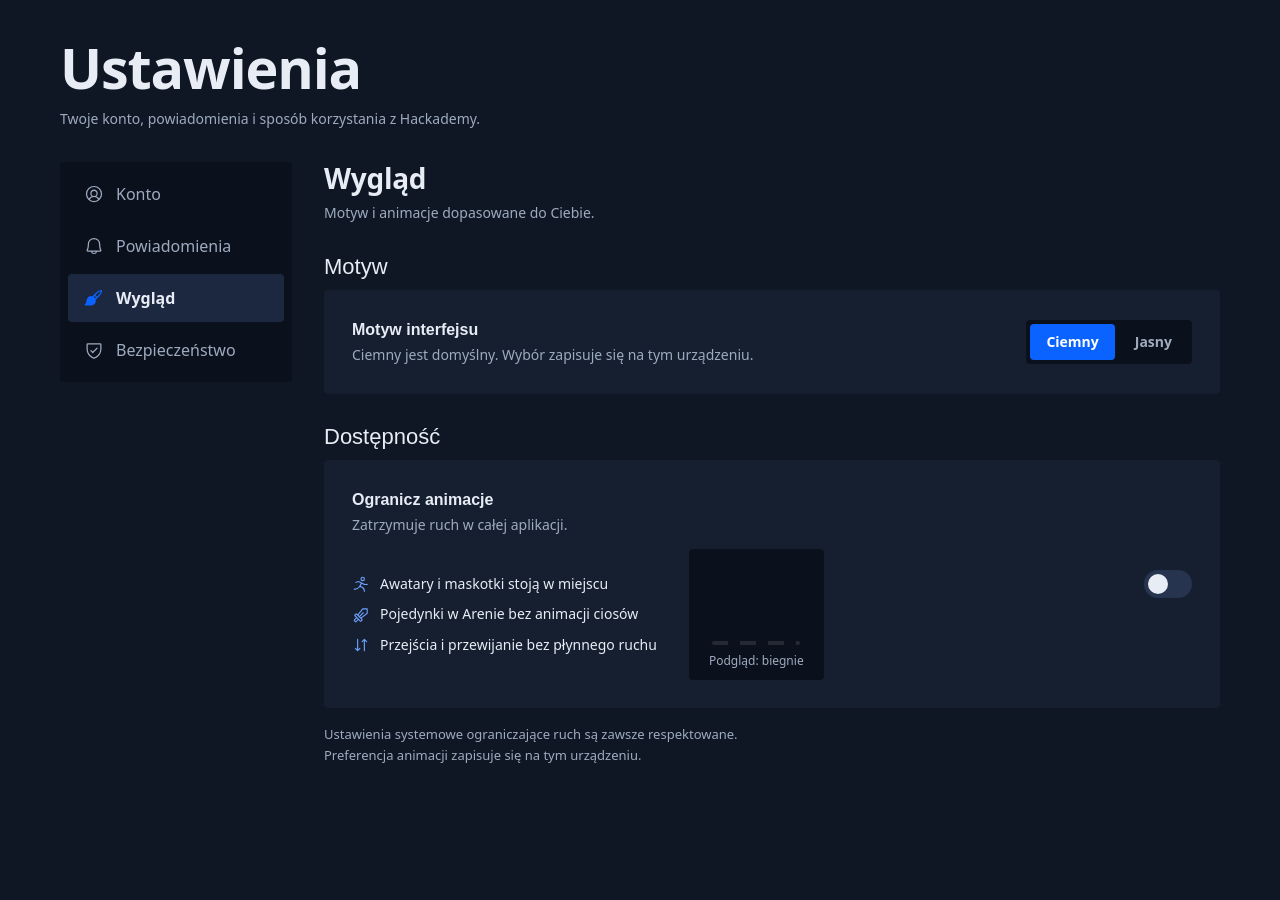
settings › switches the theme and reduced motion from the appearance section
Expected: the radio button labelled "Ciemny" is checked, [1030, 324, 1115, 360]
Click the radio button labelled "Jasny" at coordinates (1153, 342), box [1135, 332, 1172, 351]
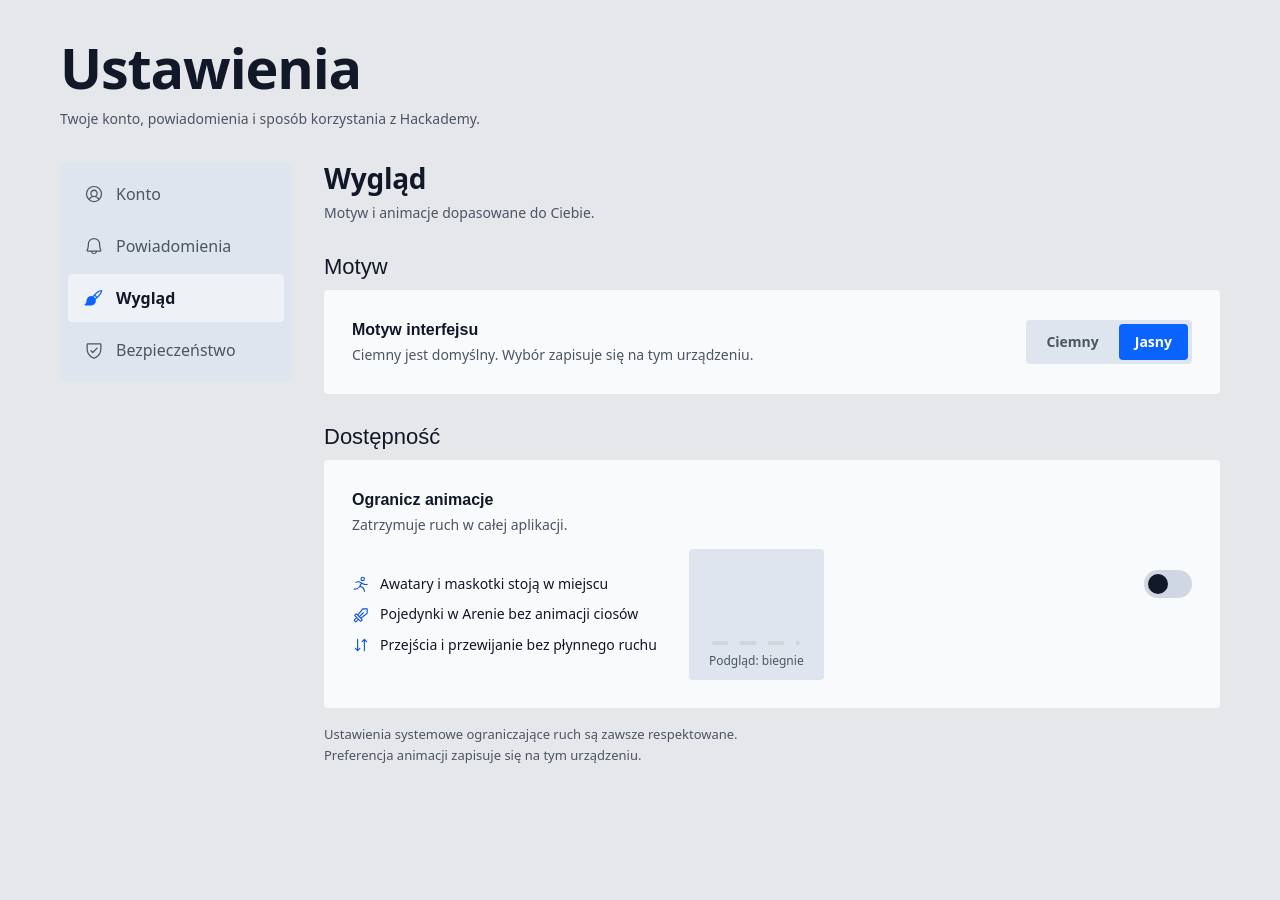
Expected: the element named "Motyw interfejsu" is shown, [1026, 320, 1192, 364]
Now the radio button labelled "Jasny" is checked, box [1119, 324, 1188, 360]
Click the switch named "Ogranicz animacje" at coordinates (1168, 584), box [1144, 570, 1192, 598]
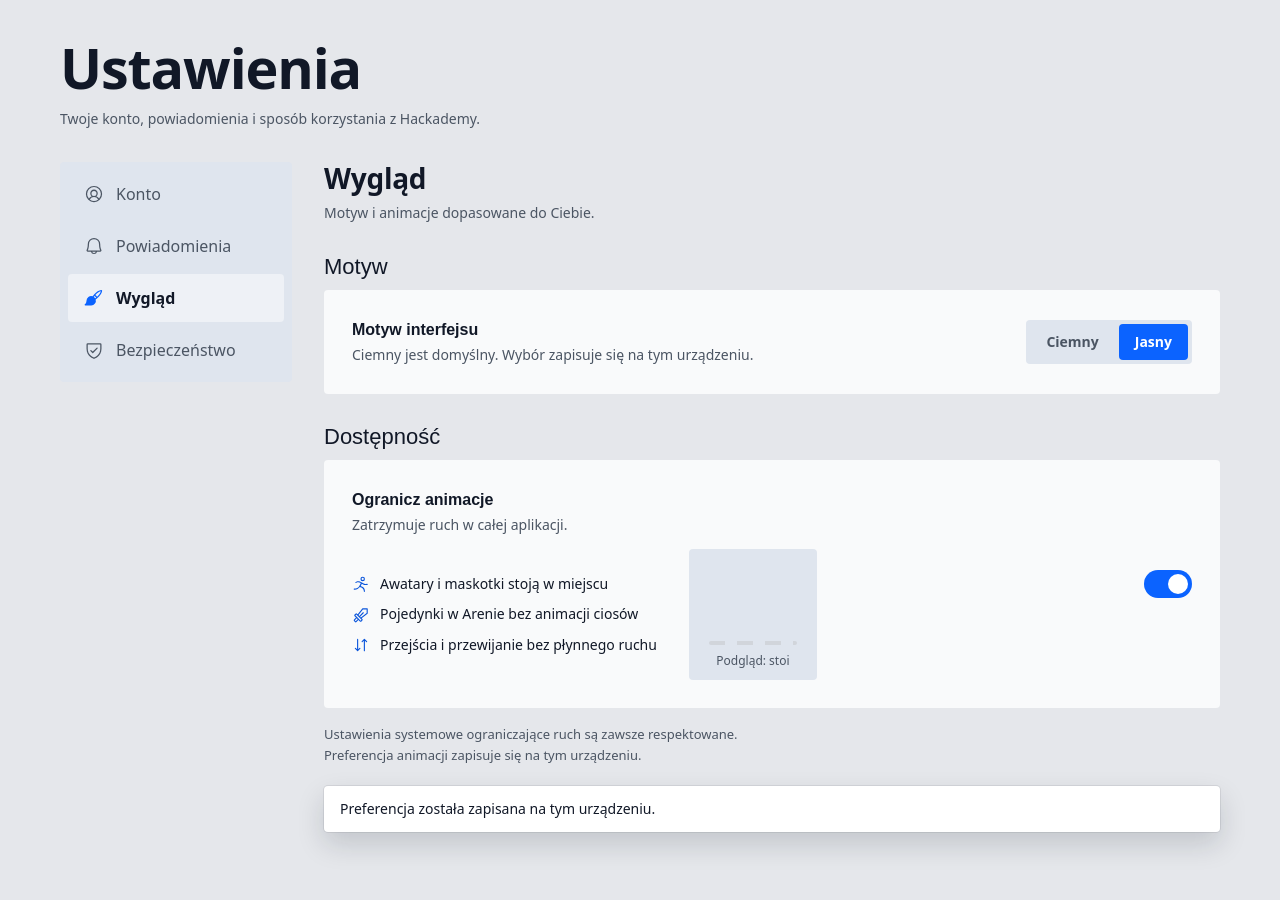
Expected: the list item "Awatary i maskotki stoją w miejscu" is shown, [352, 574, 608, 593]
Now the text "Podgląd: stoi" is shown, box [716, 651, 790, 670]
